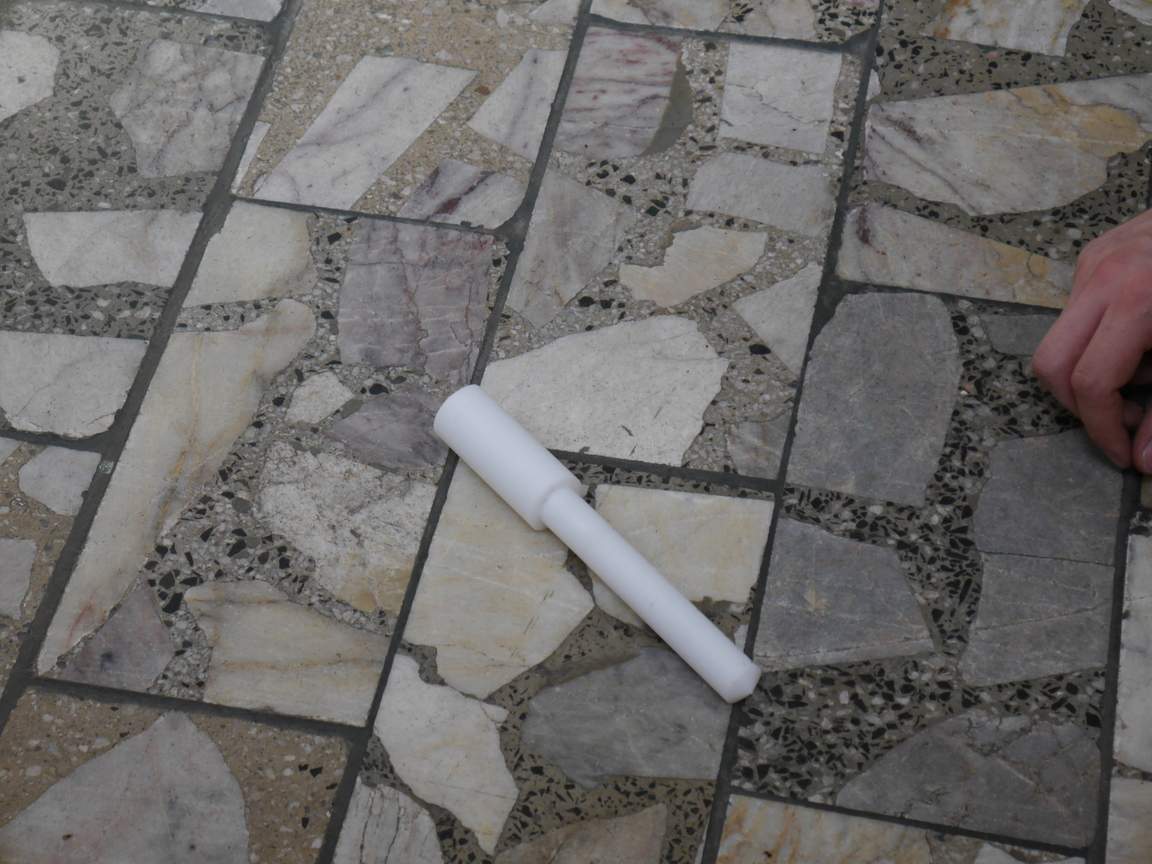cargo_g: (431, 385, 765, 706)
